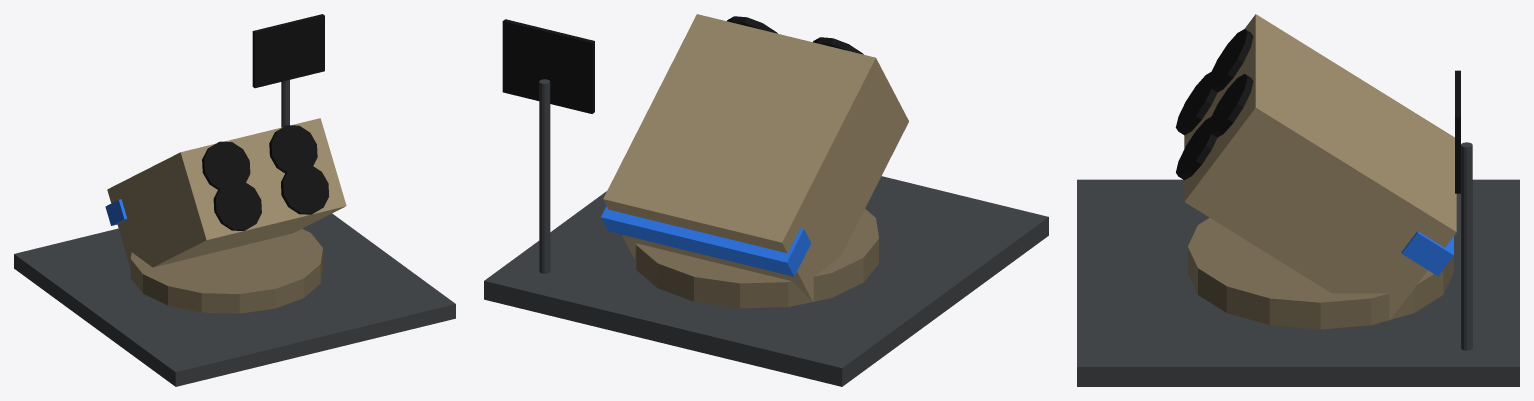
Rendered from ae_sam_site.glb.
3 views of the same model, side by side, from view 1: azimuth 30°, elevation 25°; view 2: azimuth 150°, elevation 25°; view 3: azimuth 270°, elevation 25° (orthographic). The views are drawn at different scales.
Parts seen in each view (by area): view 1: base, barrel, turret, radar_panel, tube_3, tube_2, tube_0, tube_1, radar_mast, team_band; view 2: barrel, base, turret, radar_panel, team_band, radar_mast; view 3: base, barrel, turret, radar_mast, tube_2, tube_3, team_band, tube_1, tube_0, radar_panel.
Boxes of the visible parts, <box> form: base: <box>14,213,455,386</box>; barrel: <box>107,118,346,267</box>; turret: <box>130,229,322,313</box>; radar_panel: <box>252,14,324,88</box>; tube_3: <box>269,125,317,174</box>; tube_2: <box>202,141,250,190</box>; tube_0: <box>213,180,261,230</box>; tube_1: <box>281,164,329,214</box>; radar_mast: <box>281,80,289,127</box>; team_band: <box>105,199,126,225</box>; barrel: <box>603,14,908,301</box>; base: <box>484,176,1048,386</box>; turret: <box>634,209,878,308</box>; radar_panel: <box>502,19,594,113</box>; team_band: <box>601,206,811,276</box>; radar_mast: <box>539,79,550,273</box>; base: <box>1077,179,1519,386</box>; barrel: <box>1184,14,1456,319</box>; turret: <box>1187,217,1453,329</box>; radar_mast: <box>1461,142,1472,350</box>; tube_2: <box>1207,29,1253,92</box>; tube_3: <box>1207,74,1253,137</box>; team_band: <box>1401,231,1453,275</box>; tube_1: <box>1176,116,1217,180</box>; tube_0: <box>1175,72,1217,135</box>; radar_panel: <box>1455,70,1460,193</box>.
Bounding box in the file's own units: 6.15 × 4.1 × 6.
